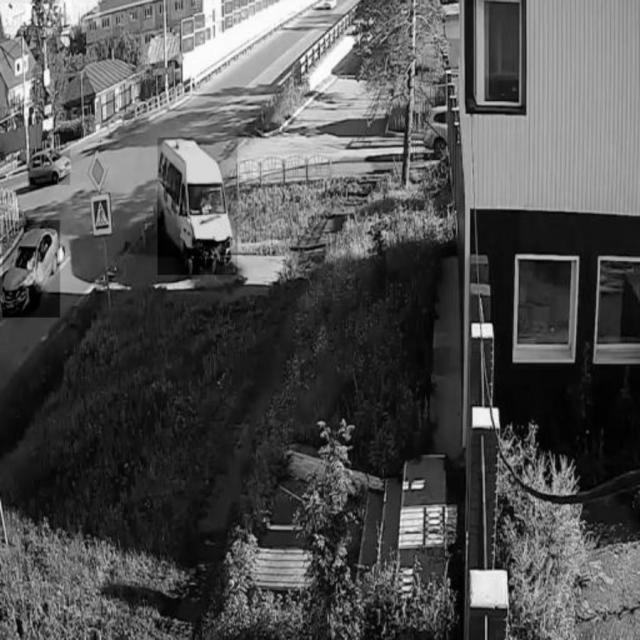vehicle: (157, 137, 238, 275), (3, 220, 60, 318), (28, 149, 70, 185)
